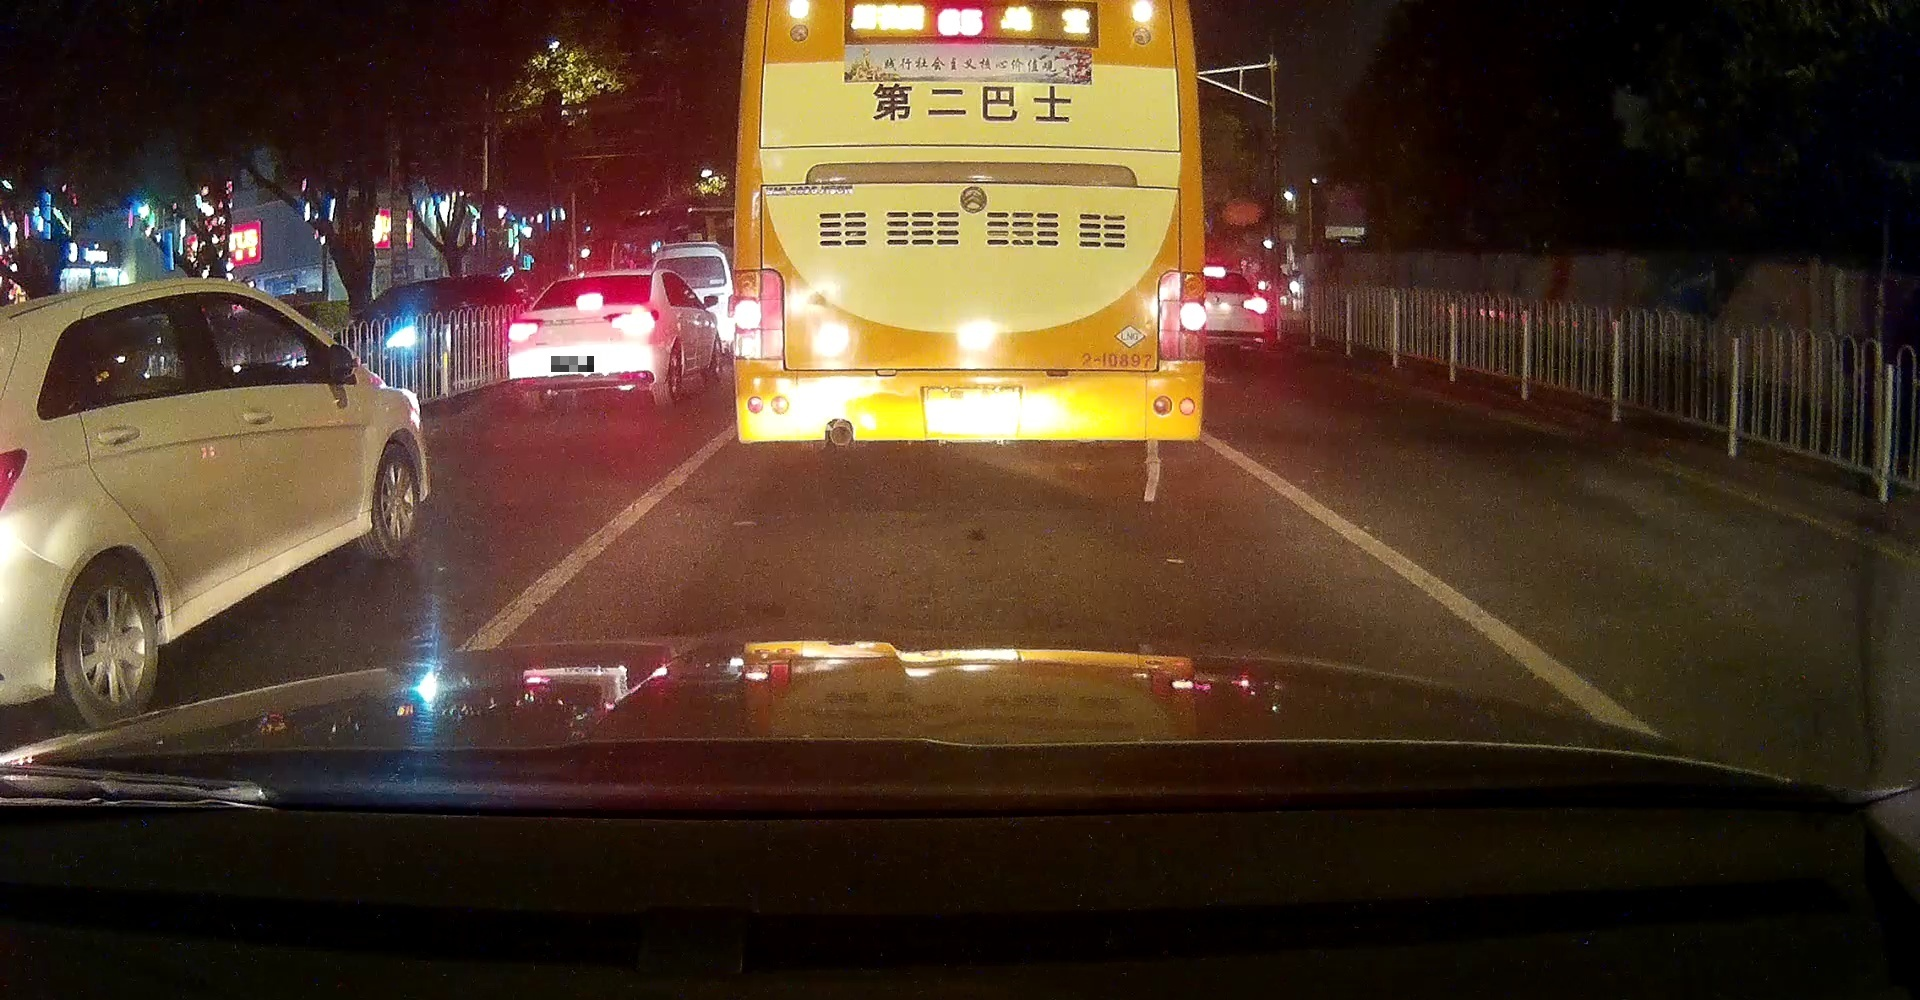L_light: (507, 319, 543, 343)
R_light: (602, 310, 659, 336)
T_light: (574, 292, 603, 311)
night-brake: (505, 268, 668, 414)
plate_1: (551, 357, 594, 372)
